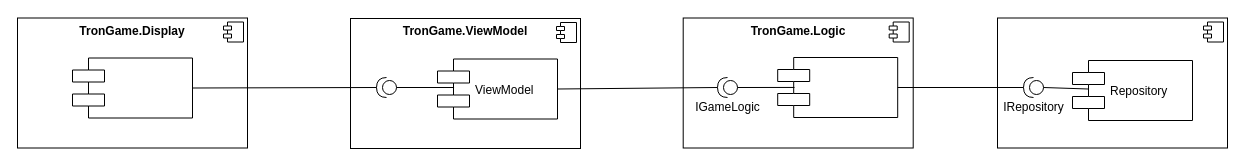
This 1245x166 diagram has some shape labels left out. The shapes that lost their labels are listed below. From the top down, each one's box as (x1, y1, x2, y2) in pixels, then its label:
(72, 57, 192, 118): WPF kontroller
(376, 76, 396, 98): IViewModel
(777, 56, 898, 118): GameLogic
(996, 17, 1228, 148): TronGame.Repository
